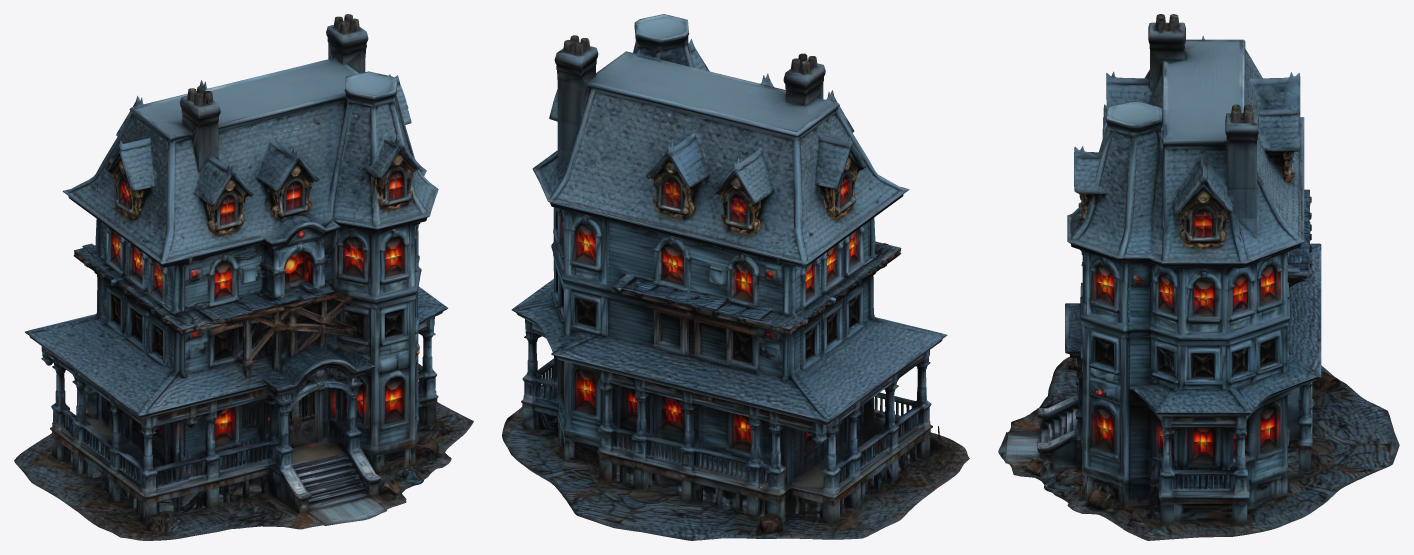
Rendered from gothic-house.glb.
The picture shows the model from 3 angles, left to right: view 1: azimuth 30°, elevation 25°; view 2: azimuth 150°, elevation 25°; view 3: azimuth 270°, elevation 25°; orthographic projection. The views are drawn at different scales.
Visible parts, largest first — view 1: node_0; view 2: node_0; view 3: node_0.
Part boxes in pixels (bbox=[...]): node_0: bbox=[14, 14, 473, 540]; node_0: bbox=[502, 14, 969, 540]; node_0: bbox=[998, 14, 1399, 540].
Size of the model in its own units: 0.8433 by 0.7933 by 0.7336.
Materials: 1 (1 with a texture image).
